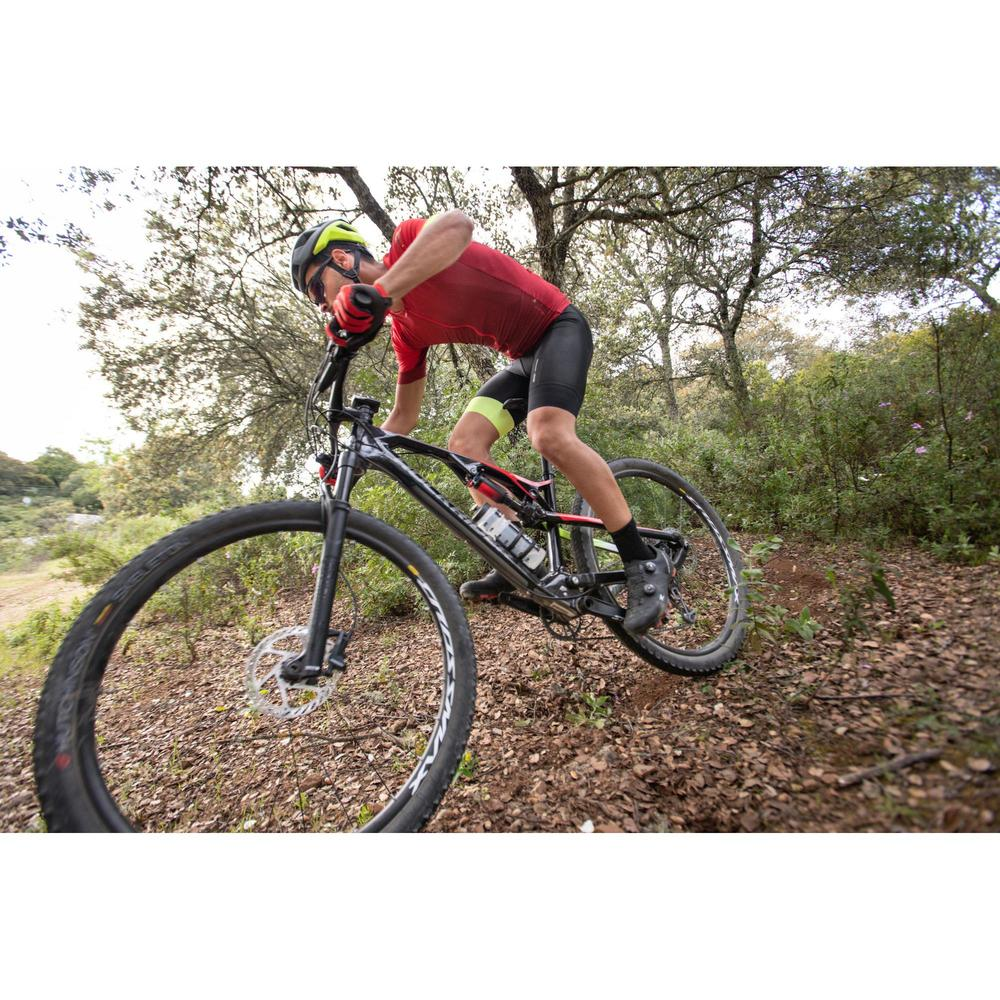MountainBike: (20, 375, 738, 823)
